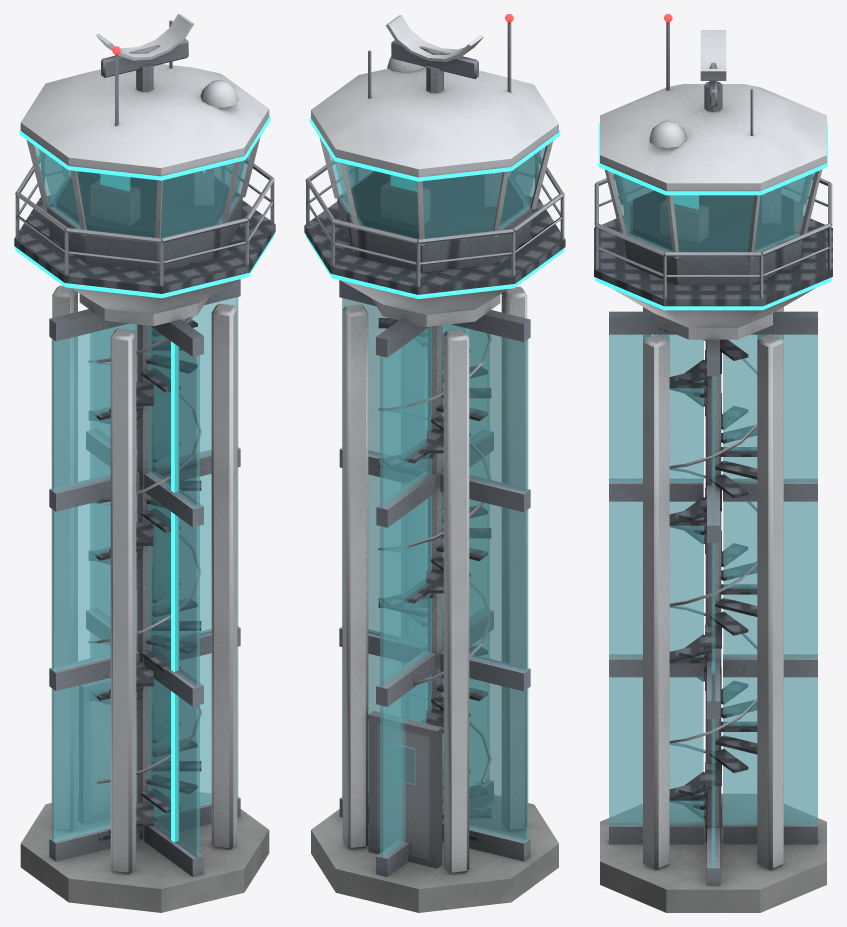
The model's file is torre_control.fbx.
3 renders of one model, left to right at view 1: azimuth 30°, elevation 25°; view 2: azimuth 150°, elevation 25°; view 3: azimuth 270°, elevation 25°, orthographic. The views are drawn at different scales.
Visible parts, largest first — view 1: torre_control, torre_control_cristal, torre_control_neon, torre_control_radar, torre_control_puerta; view 2: torre_control, torre_control_cristal, torre_control_puerta, torre_control_radar, torre_control_neon; view 3: torre_control, torre_control_cristal, torre_control_neon, torre_control_radar.
Part boxes in pixels (x1=…): torre_control: x1=14, y1=20, x2=275, y2=912; torre_control_cristal: x1=34, y1=145, x2=250, y2=857; torre_control_neon: x1=15, y1=116, x2=274, y2=842; torre_control_radar: x1=95, y1=14, x2=193, y2=77; torre_control_puerta: x1=91, y1=701, x2=110, y2=814; torre_control: x1=304, y1=22, x2=565, y2=912; torre_control_cristal: x1=328, y1=146, x2=545, y2=857; torre_control_puerta: x1=376, y1=724, x2=429, y2=858; torre_control_radar: x1=385, y1=15, x2=483, y2=78; torre_control_neon: x1=306, y1=117, x2=564, y2=336; torre_control: x1=594, y1=22, x2=832, y2=912; torre_control_cristal: x1=609, y1=173, x2=817, y2=868; torre_control_neon: x1=595, y1=123, x2=831, y2=335; torre_control_radar: x1=700, y1=30, x2=726, y2=107.
Size of the model in its own units: 3.7 by 14.11 by 3.7.
3 materials, 3 textured.
